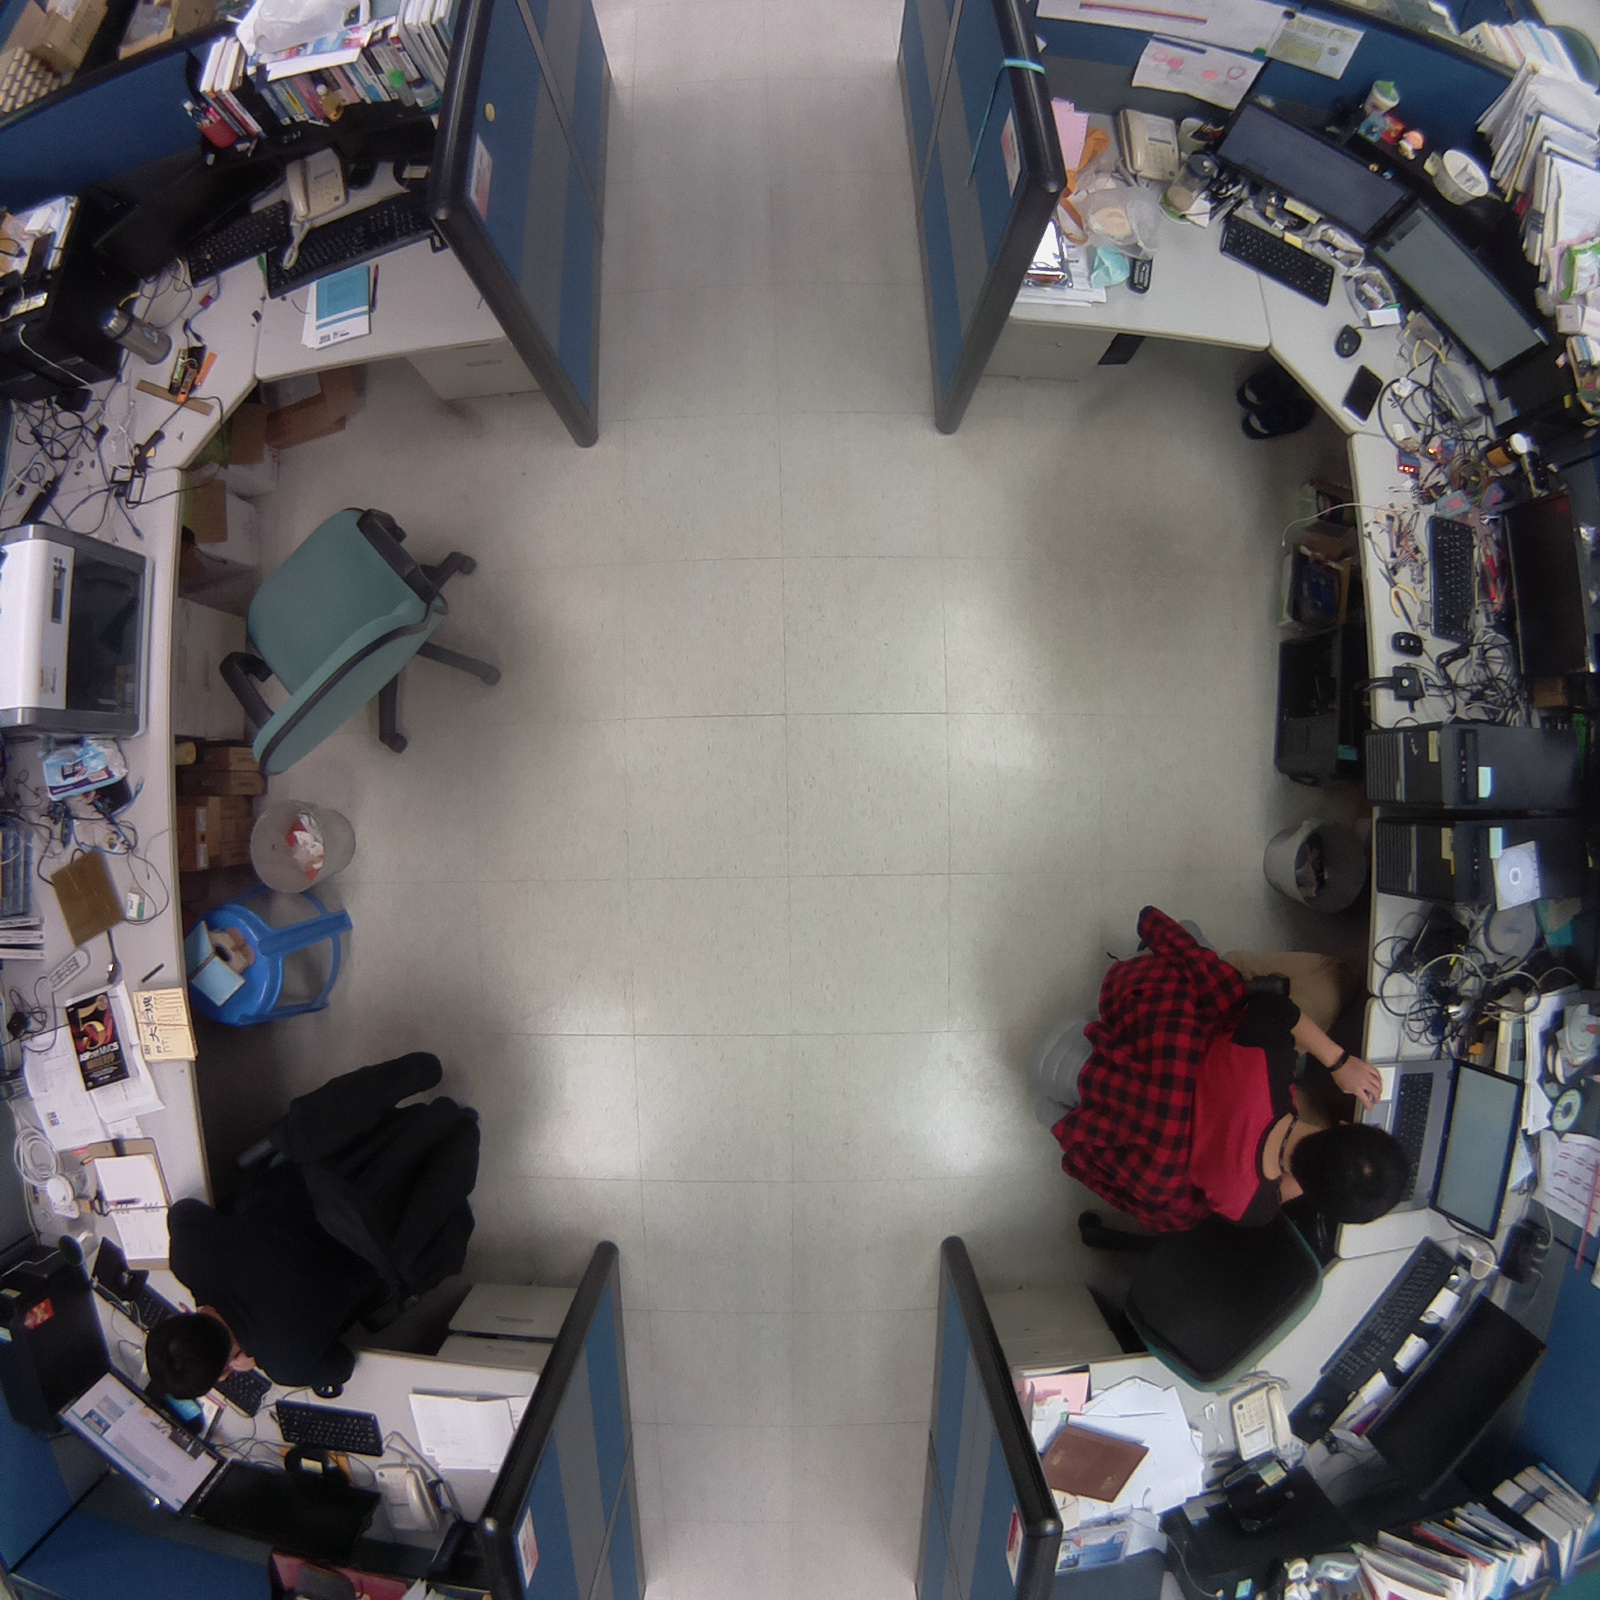chair: (206, 478, 524, 799), (1050, 1186, 1335, 1406)
head: (1283, 1119, 1417, 1231), (140, 1306, 238, 1406)
sitting: (138, 1029, 514, 1412), (1037, 891, 1413, 1244)
